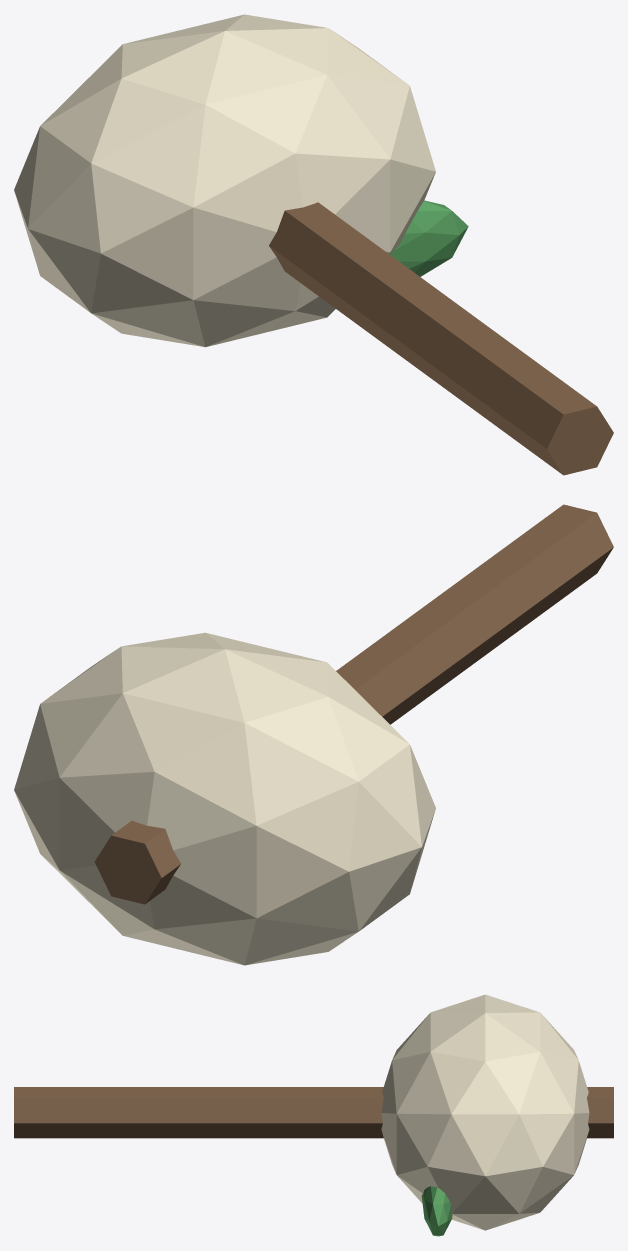
The model's file is swamp_bog_skull_marker.glb.
3 renders of one model, top to bottom at view 1: azimuth 30°, elevation 25°; view 2: azimuth 150°, elevation 25°; view 3: azimuth 270°, elevation 25°, orthographic. The views are drawn at different scales.
Visible parts, largest first — view 1: skull, stake, moss; view 2: skull, stake; view 3: skull, stake, moss.
Boxes of the visible parts, box(x1,y1,x2,y2) form: skull: box(14, 14, 435, 347); stake: box(269, 202, 613, 475); moss: box(390, 200, 468, 276); skull: box(14, 632, 435, 965); stake: box(94, 504, 613, 904); skull: box(381, 994, 589, 1230); stake: box(14, 1087, 613, 1138); moss: box(421, 1186, 452, 1236).
Bounding box in the file's own units: 0.724 × 0.512 × 1.4.
